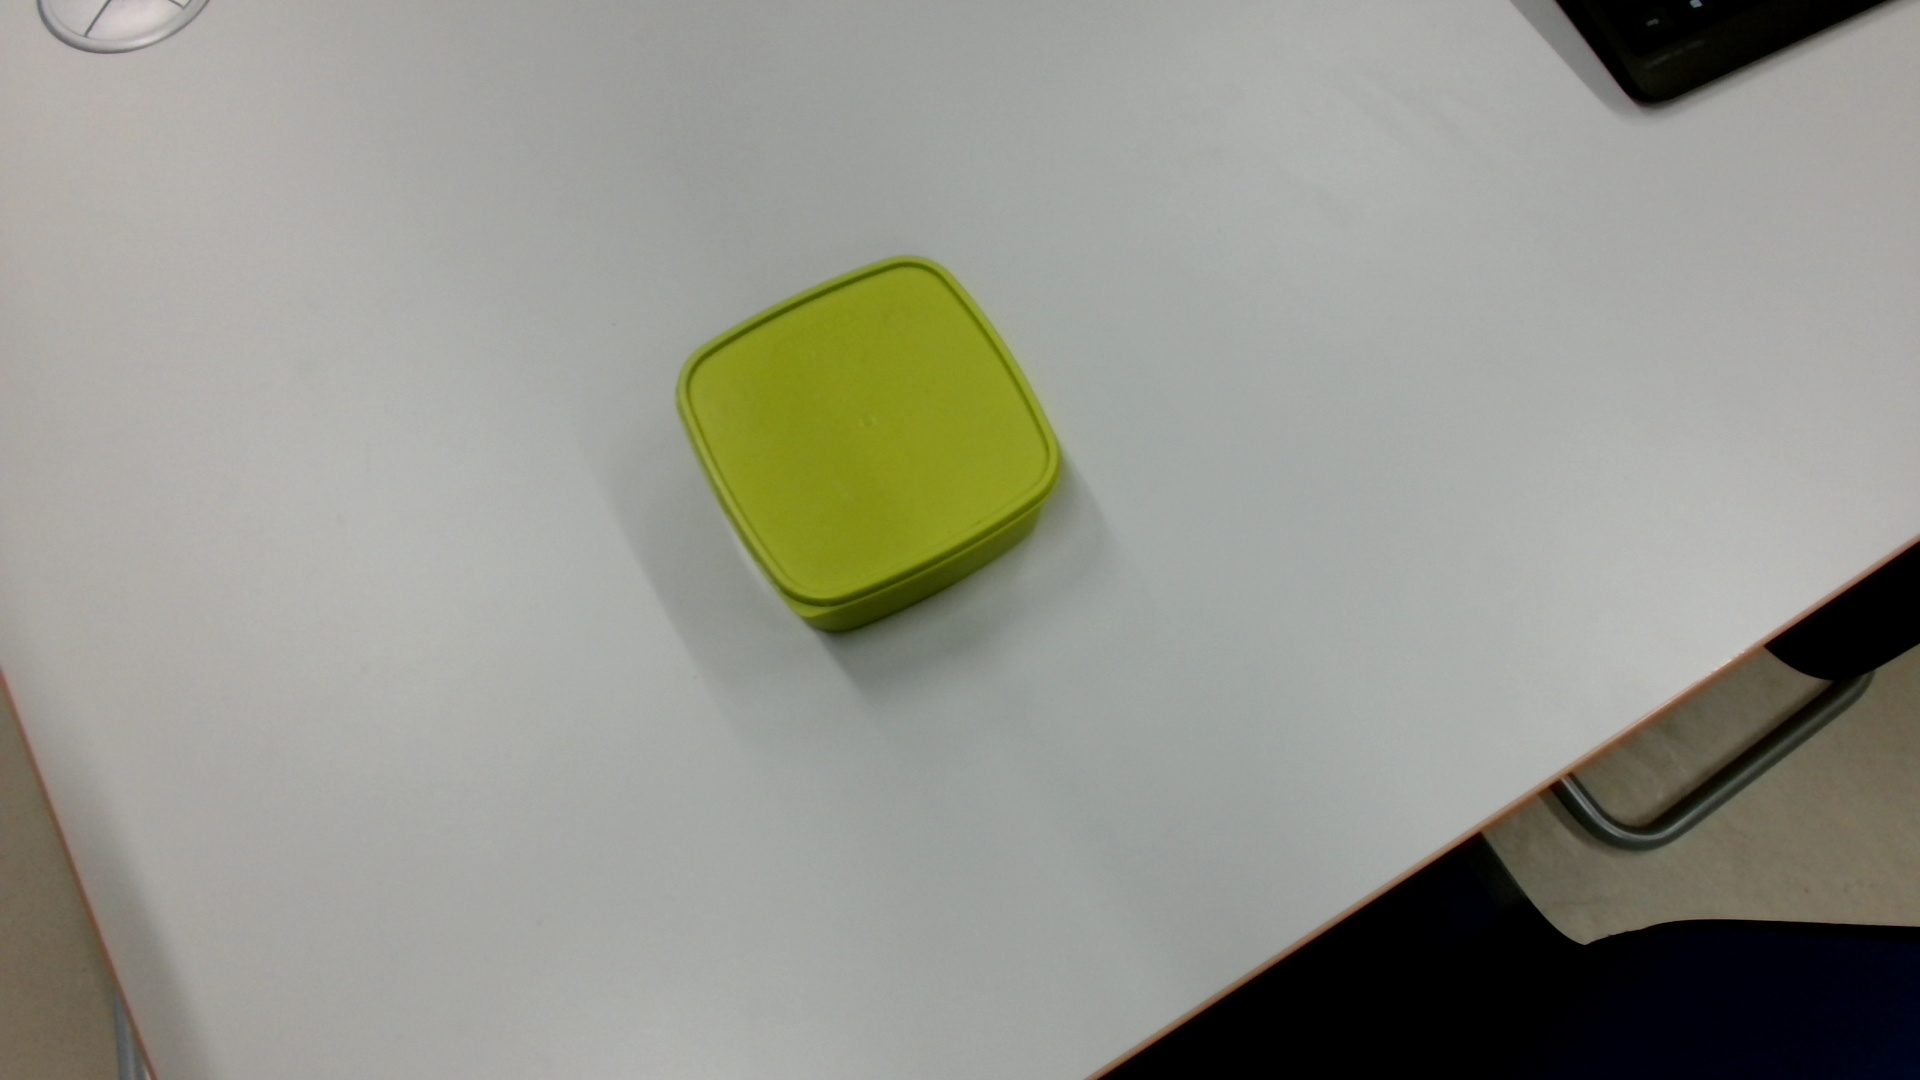Box: (669, 248, 1073, 644)
